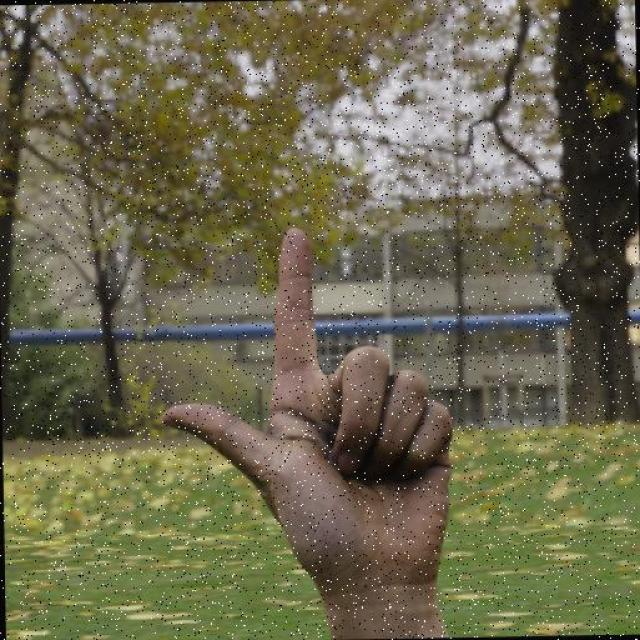L: (99, 211, 510, 640)
